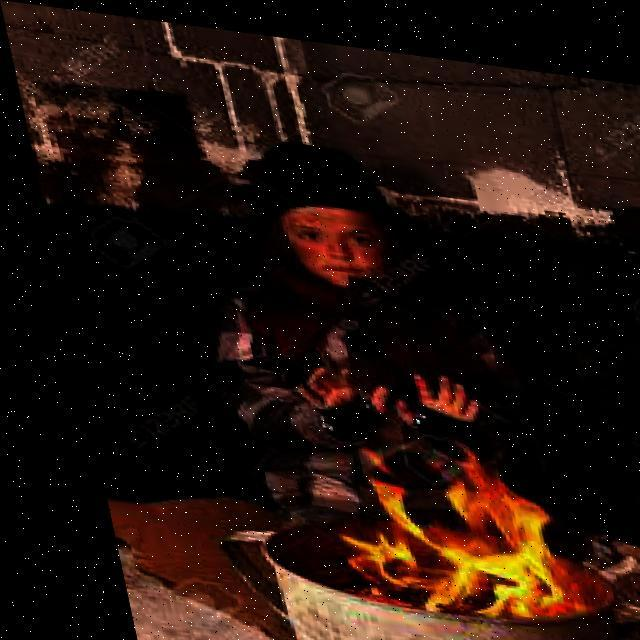Fire: (233, 402, 611, 624)
